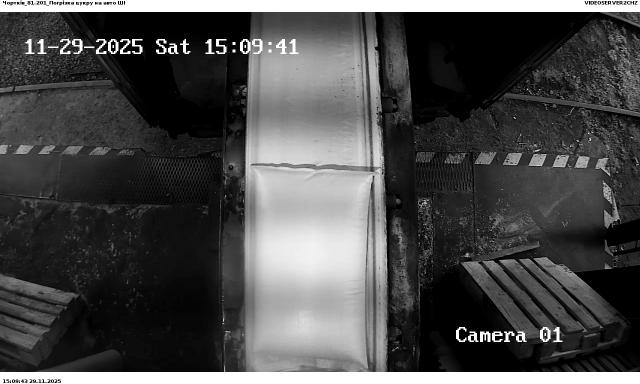bag: (251, 165, 381, 371)
